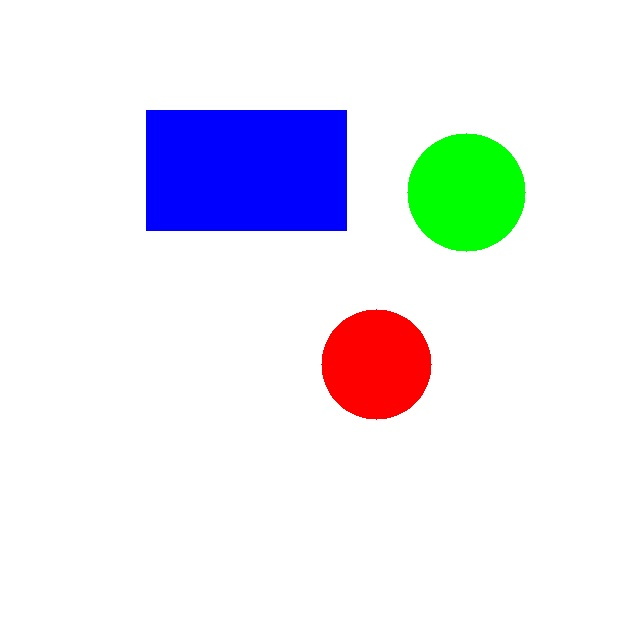cartao: (146, 110, 346, 230)
rosca_externa: (407, 133, 525, 251)
rosca_interna: (321, 309, 431, 419)
